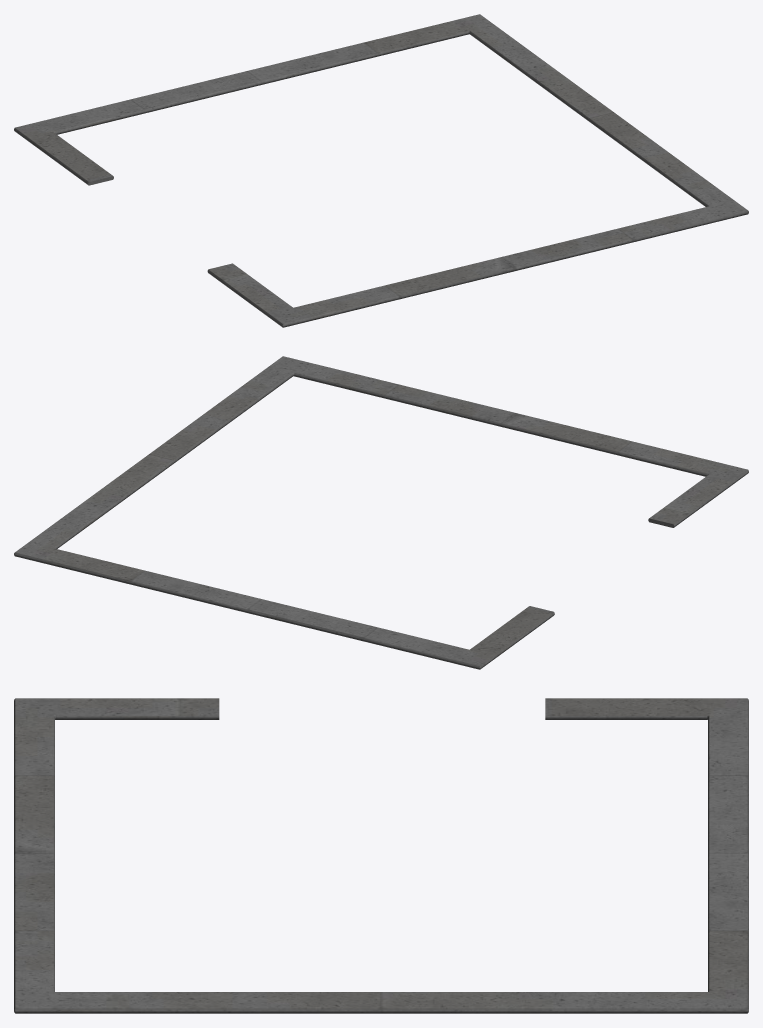
File: frame.glb
3 views of the same model, one above another, from view 1: azimuth 30°, elevation 25°; view 2: azimuth 150°, elevation 25°; view 3: azimuth 270°, elevation 25° (orthographic). The views are drawn at different scales.
Parts seen in each view (by area): view 1: Plane; view 2: Plane; view 3: Plane.
Boxes of the visible parts, bbox=[...] form: Plane: bbox=[14, 14, 748, 327]; Plane: bbox=[14, 356, 748, 669]; Plane: bbox=[14, 698, 748, 1013].
Bounding box in the file's own units: 8.99 × 0.07 × 8.98.
Materials: 1 (1 with a texture image).
